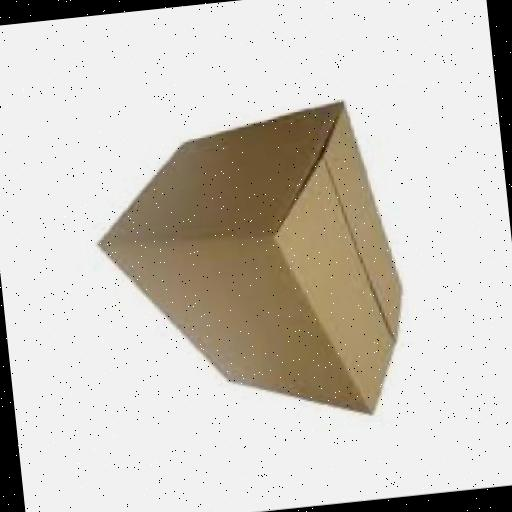cardboard: (88, 100, 418, 443)
